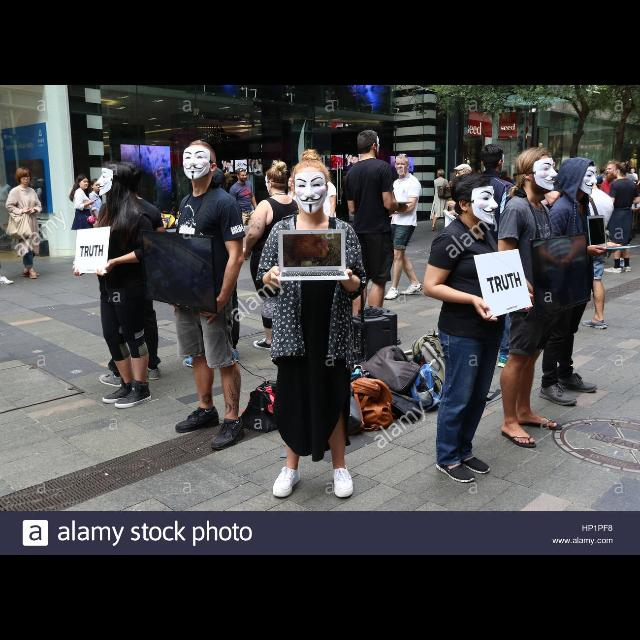head: (292, 160, 330, 214), (516, 146, 554, 194), (455, 177, 495, 219), (182, 141, 218, 181), (562, 158, 596, 196), (101, 164, 131, 198), (114, 161, 140, 193), (480, 144, 506, 172), (201, 166, 227, 192), (356, 130, 379, 158), (265, 168, 287, 196), (394, 154, 410, 176), (456, 166, 472, 182), (18, 168, 32, 186), (614, 162, 628, 178), (606, 163, 620, 179), (580, 170, 596, 184), (236, 168, 248, 184), (77, 174, 89, 190), (317, 170, 329, 182), (90, 180, 102, 192), (291, 182, 299, 192), (453, 172, 461, 182), (288, 178, 294, 188), (600, 168, 608, 175), (438, 170, 444, 178), (630, 168, 636, 174)
person: (254, 148, 370, 502), (421, 172, 537, 486), (162, 138, 248, 456), (536, 154, 630, 410), (70, 160, 156, 412), (494, 144, 564, 452), (98, 160, 166, 390), (342, 128, 410, 352), (464, 146, 526, 370), (234, 158, 304, 354), (178, 166, 242, 374), (560, 169, 618, 335), (380, 152, 426, 304), (3, 164, 45, 282), (601, 161, 639, 275), (441, 162, 479, 268), (596, 159, 628, 269), (68, 174, 99, 272), (228, 168, 260, 262), (310, 168, 340, 258), (86, 176, 110, 258), (428, 168, 452, 234), (447, 170, 465, 230), (288, 179, 302, 237), (286, 172, 298, 228), (626, 167, 640, 210), (592, 167, 610, 200)
